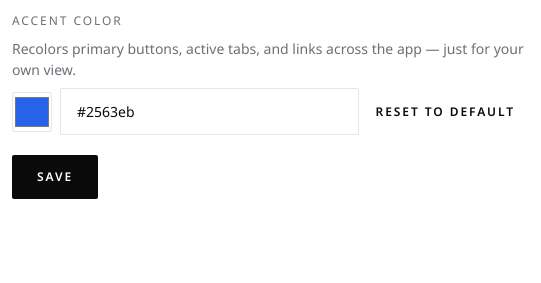
Test: AppearanceForm › resets to default via the Reset button, saving null
Click the button "Reset to default".
click(445, 112)  # box [367, 98, 524, 126]
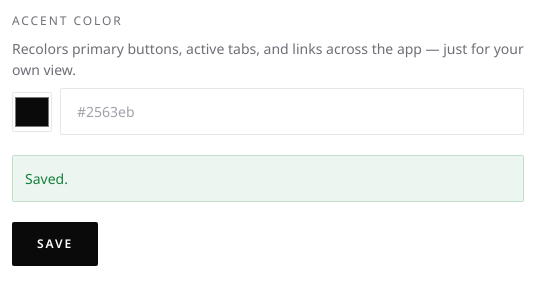
Expected: the field labelled "Accent color" is empty, [60, 88, 524, 135]
